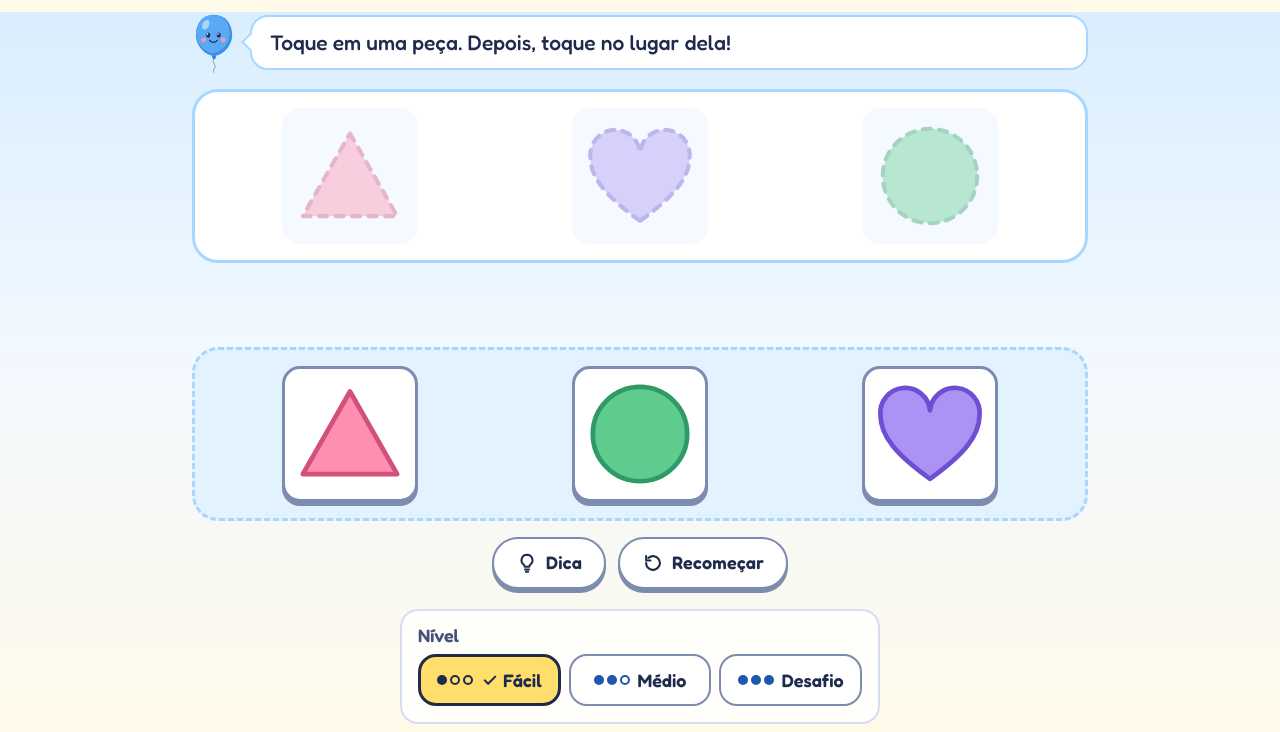
Test case: Encaixe as Formas › os níveis seguintes trazem mais formas
Step 1. Click the radio button labelled "Médio" → [640, 680], box [569,654,711,706]
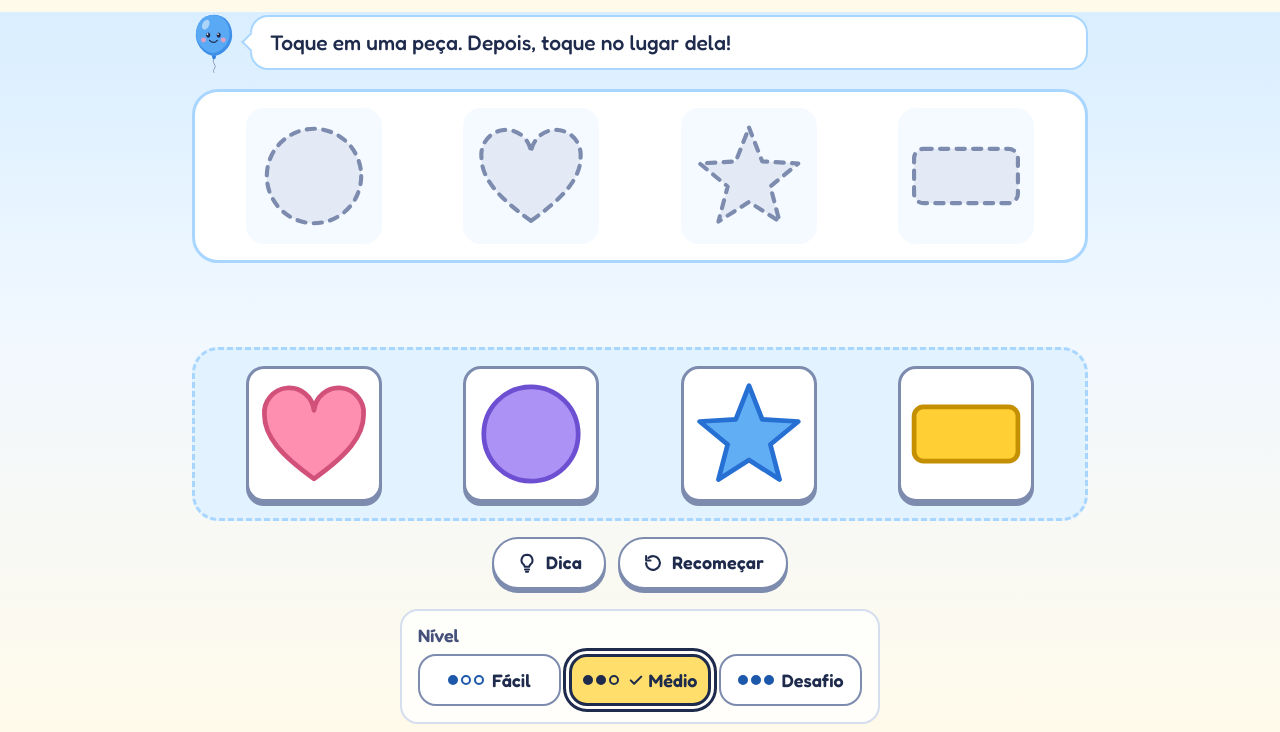
Result: the number of buttons named "Peça: " is 4 at [246,366,382,502]; [463,366,599,502]; [681,366,817,502]; [898,366,1034,502]
Step 2. Click the radio button labelled "Desafio" → [791, 680], box [719,654,862,706]
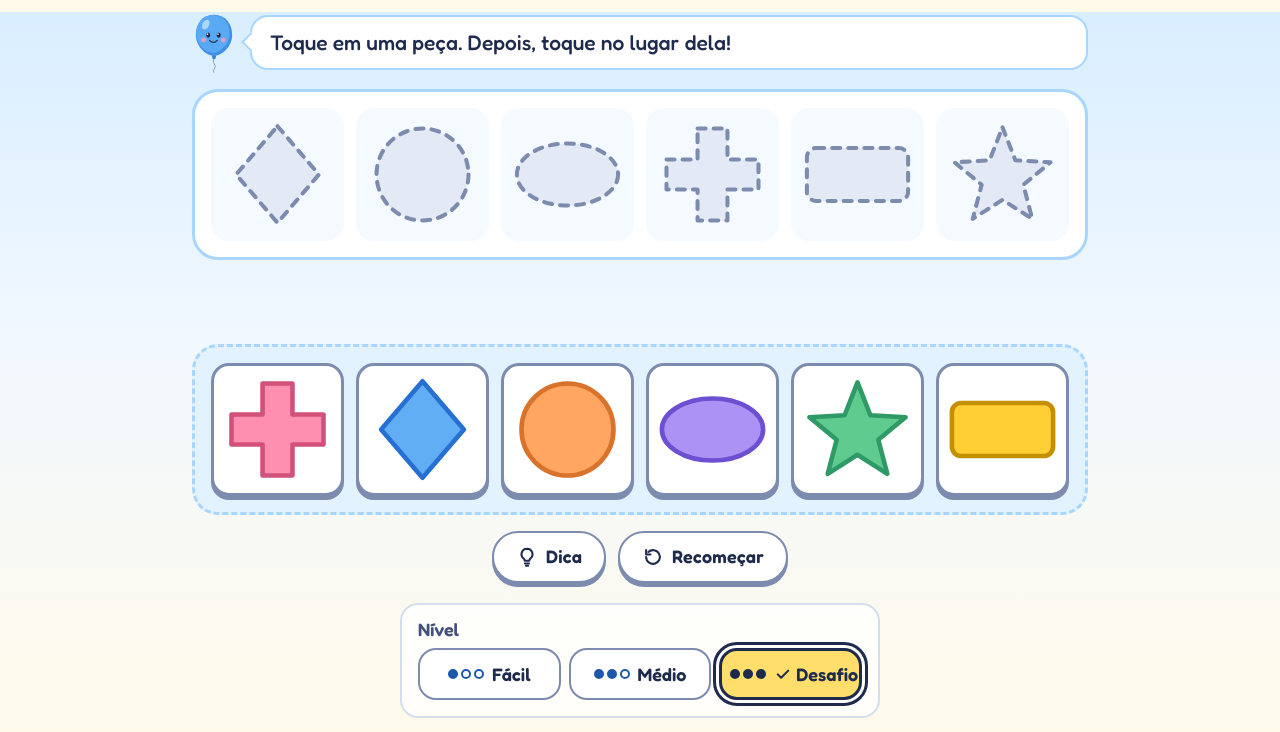
Result: the number of buttons named "Peça: " is 6 at [211,362,344,496]; [356,362,489,496]; [501,362,634,496]; [646,362,779,496]; [791,362,924,496]; [936,362,1069,496]
